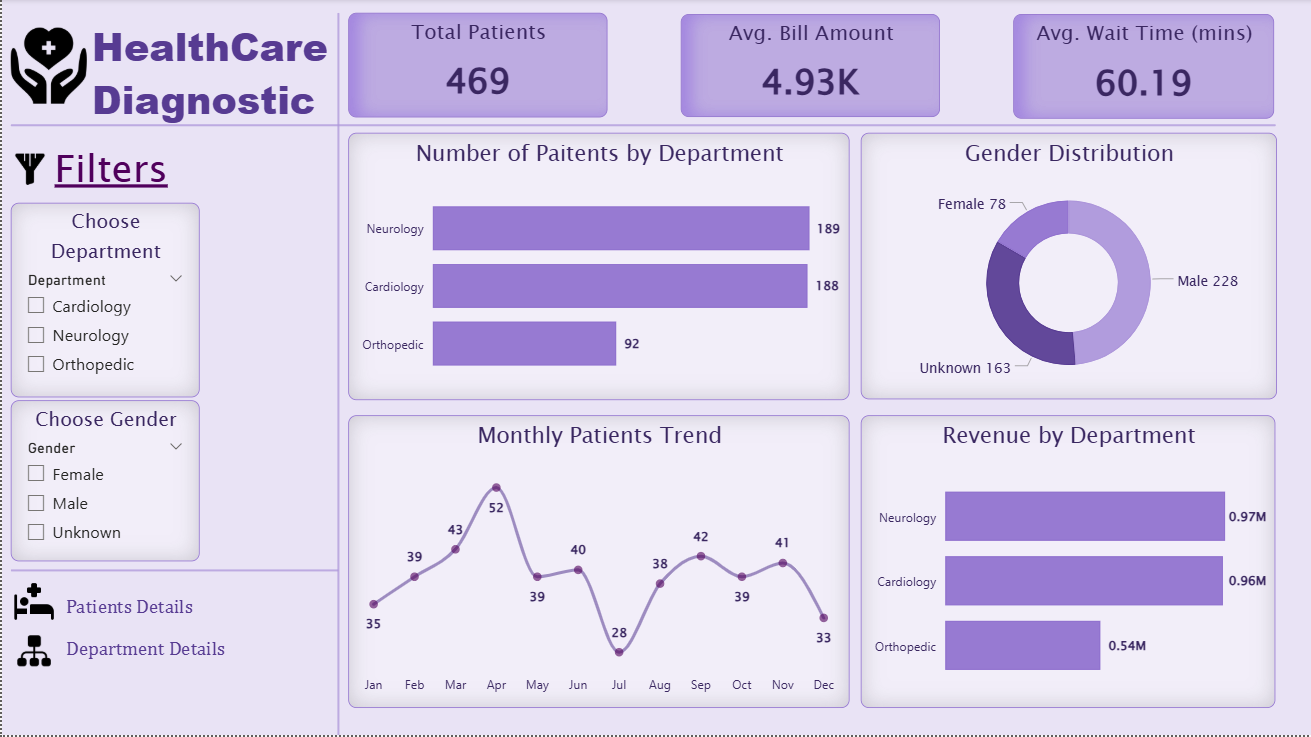

The dashboard page shown, as its layout file describes it:
{"tool":"powerbi","page":{"name":"Overview","canvas":[1280,720],"ordinal":0},"visuals":[{"type":"card","title":"Total Patients","fields":{"Values":["CountNonNull(Cleaned_HealthCare_Data.Patient_ID)"]},"box":[339,13,253.9,102.4],"z":0},{"type":"card","title":"Avg. Bill Amount","fields":{"Values":["Avg(Cleaned_HealthCare_Data.Bill_Amount)"]},"box":[664.4,14.4,253.9,101],"z":1000},{"type":"card","title":"Avg. Wait Time (mins)","fields":{"Values":["Avg(Cleaned_HealthCare_Data.Wait_Time(min))"]},"box":[989.7,14.4,255.4,102.4],"z":2000},{"type":"barChart","title":"Number of Paitents by Department","fields":{"Category":["Cleaned_HealthCare_Data.Department"],"Y":["CountNonNull(Cleaned_HealthCare_Data.Patient_ID)"]},"box":[338.7,130.8,490.4,261.7],"z":3000},{"type":"barChart","title":"Revenue by Department","fields":{"Category":["Cleaned_HealthCare_Data.Department"],"Y":["Sum(Cleaned_HealthCare_Data.Bill_Amount)"]},"box":[840.1,407.2,406,286.1],"z":4000},{"type":"lineChart","title":"Monthly Patients Trend","fields":{"Category":["Cleaned_HealthCare_Data.Month_Name"],"Y":["CountNonNull(Cleaned_HealthCare_Data.Patient_ID)"]},"box":[338.7,407.2,490.4,286.1],"z":5000},{"type":"donutChart","title":"Gender Distribution","fields":{"Category":["Cleaned_HealthCare_Data.Gender"],"Y":["CountNonNull(Cleaned_HealthCare_Data.Patient_ID)"]},"box":[839.7,131.3,406.9,261.1],"z":6000},{"type":"textbox","box":[83.2,14.7,247,116.2],"z":7000},{"type":"image","box":[8.6,0,74.6,130.8],"z":8000},{"type":"slicer","title":"Choose Department","fields":{"Values":["Cleaned_HealthCare_Data.Department"]},"box":[8.6,199.3,184.6,190.8],"z":9000},{"type":"slicer","title":"Choose Gender","fields":{"Values":["Cleaned_HealthCare_Data.Gender"]},"box":[8.6,392.5,184.6,157.7],"z":9001},{"type":"shape","box":[223.6,13,210.6,707],"z":9002},{"type":"shape","box":[8.6,14.7,1237.5,217.7],"z":9003},{"type":"image","box":[8.6,133.3,37.9,66],"z":9004},{"type":"textbox","box":[46.5,133.3,146.7,74.6],"z":9005},{"type":"image","box":[8.6,567.4,45.2,44],"z":9006},{"type":"textbox","box":[57.5,579.6,149.2,31.8],"z":9007},{"type":"image","box":[8.6,621.2,45.2,33],"z":9008},{"type":"textbox","box":[57.5,621.2,181,33],"z":9009},{"type":"shape","box":[8.7,549.8,320.9,17.4],"z":9010}]}

Visuals, with their boxes in screenshot pixels (x1, y1, x2, y2), scaled from the page's 1280x720 canvas onto the 1311x737 screenshot:
"Total Patients" card: locate(347, 13, 607, 118)
"Avg. Bill Amount" card: locate(680, 15, 941, 118)
"Avg. Wait Time (mins)" card: locate(1014, 15, 1275, 120)
"Number of Paitents by Department" barChart: locate(347, 134, 849, 402)
"Revenue by Department" barChart: locate(860, 417, 1276, 710)
"Monthly Patients Trend" lineChart: locate(347, 417, 849, 710)
"Gender Distribution" donutChart: locate(860, 134, 1277, 402)
textbox: locate(85, 15, 338, 134)
image: locate(9, 0, 85, 134)
"Choose Department" slicer: locate(9, 204, 198, 399)
"Choose Gender" slicer: locate(9, 402, 198, 563)
shape: locate(229, 13, 445, 736)
shape: locate(9, 15, 1276, 238)
image: locate(9, 136, 48, 204)
textbox: locate(48, 136, 198, 213)
image: locate(9, 581, 55, 626)
textbox: locate(59, 593, 212, 626)
image: locate(9, 636, 55, 670)
textbox: locate(59, 636, 244, 670)
shape: locate(9, 563, 338, 581)
